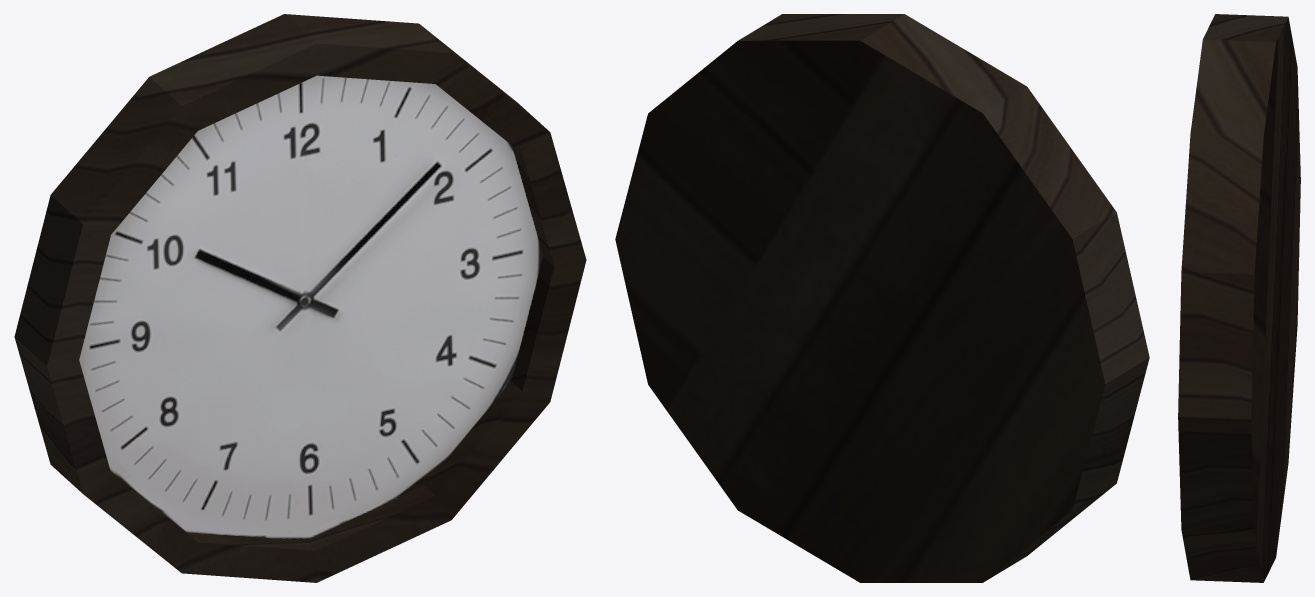
The model's file is OneRoom_Clock.fbx.
3 renders of one model, left to right at view 1: azimuth 30°, elevation 25°; view 2: azimuth 150°, elevation 25°; view 3: azimuth 270°, elevation 25°, orthographic. The views are drawn at different scales.
Parts seen in each view (by area): view 1: Object001; view 2: Object001; view 3: Object001.
Part boxes in pixels (x1=…): Object001: x1=14, y1=14, x2=586, y2=582; Object001: x1=615, y1=14, x2=1149, y2=582; Object001: x1=1178, y1=14, x2=1300, y2=582.
Size of the model in its own units: 0.3843 by 0.3814 by 0.0824.
Materials: 1 (1 with a texture image).
